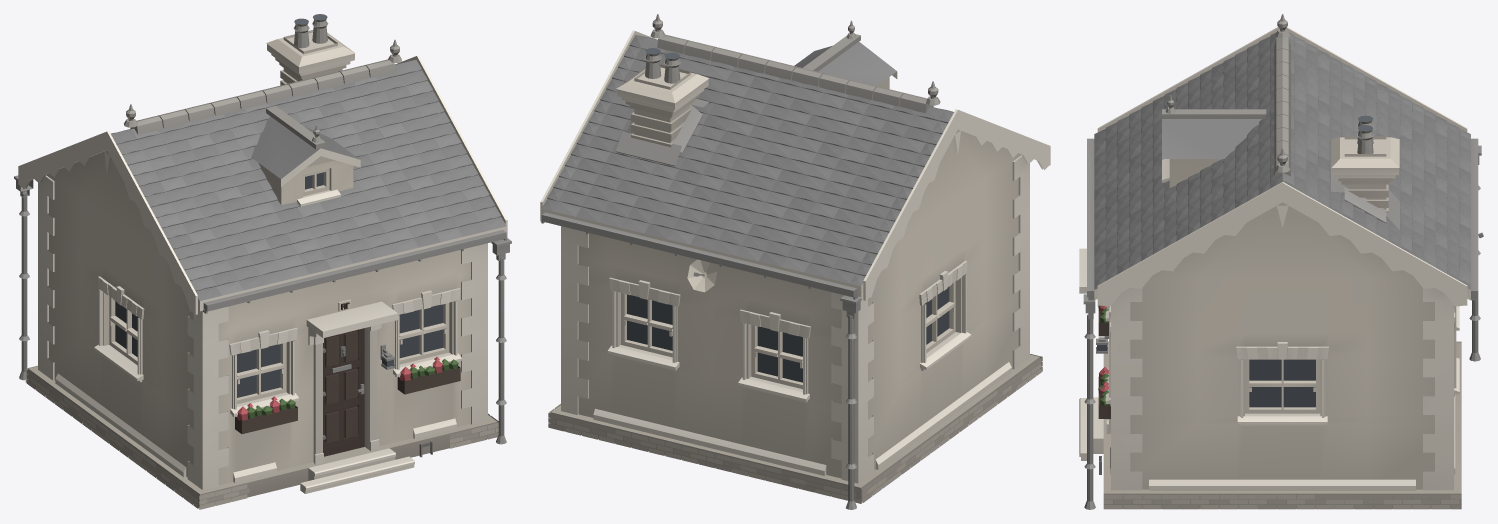
File: building-house-near.glb
3 views of the same model, side by side, from view 1: azimuth 30°, elevation 25°; view 2: azimuth 150°, elevation 25°; view 3: azimuth 270°, elevation 25° (orthographic). The views are drawn at different scales.
Visible parts, largest first — view 1: BuildingNear; view 2: BuildingNear; view 3: BuildingNear.
Part boxes in pixels (bbox=[...]): BuildingNear: bbox=[14, 14, 511, 509]; BuildingNear: bbox=[540, 14, 1050, 509]; BuildingNear: bbox=[1079, 14, 1483, 509].
Size of the model in its own units: 0.9964 by 1.04 by 1.07.
